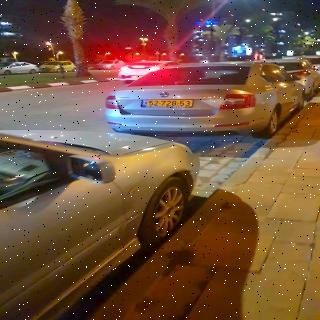LicensePlate: (148, 100, 193, 106)
